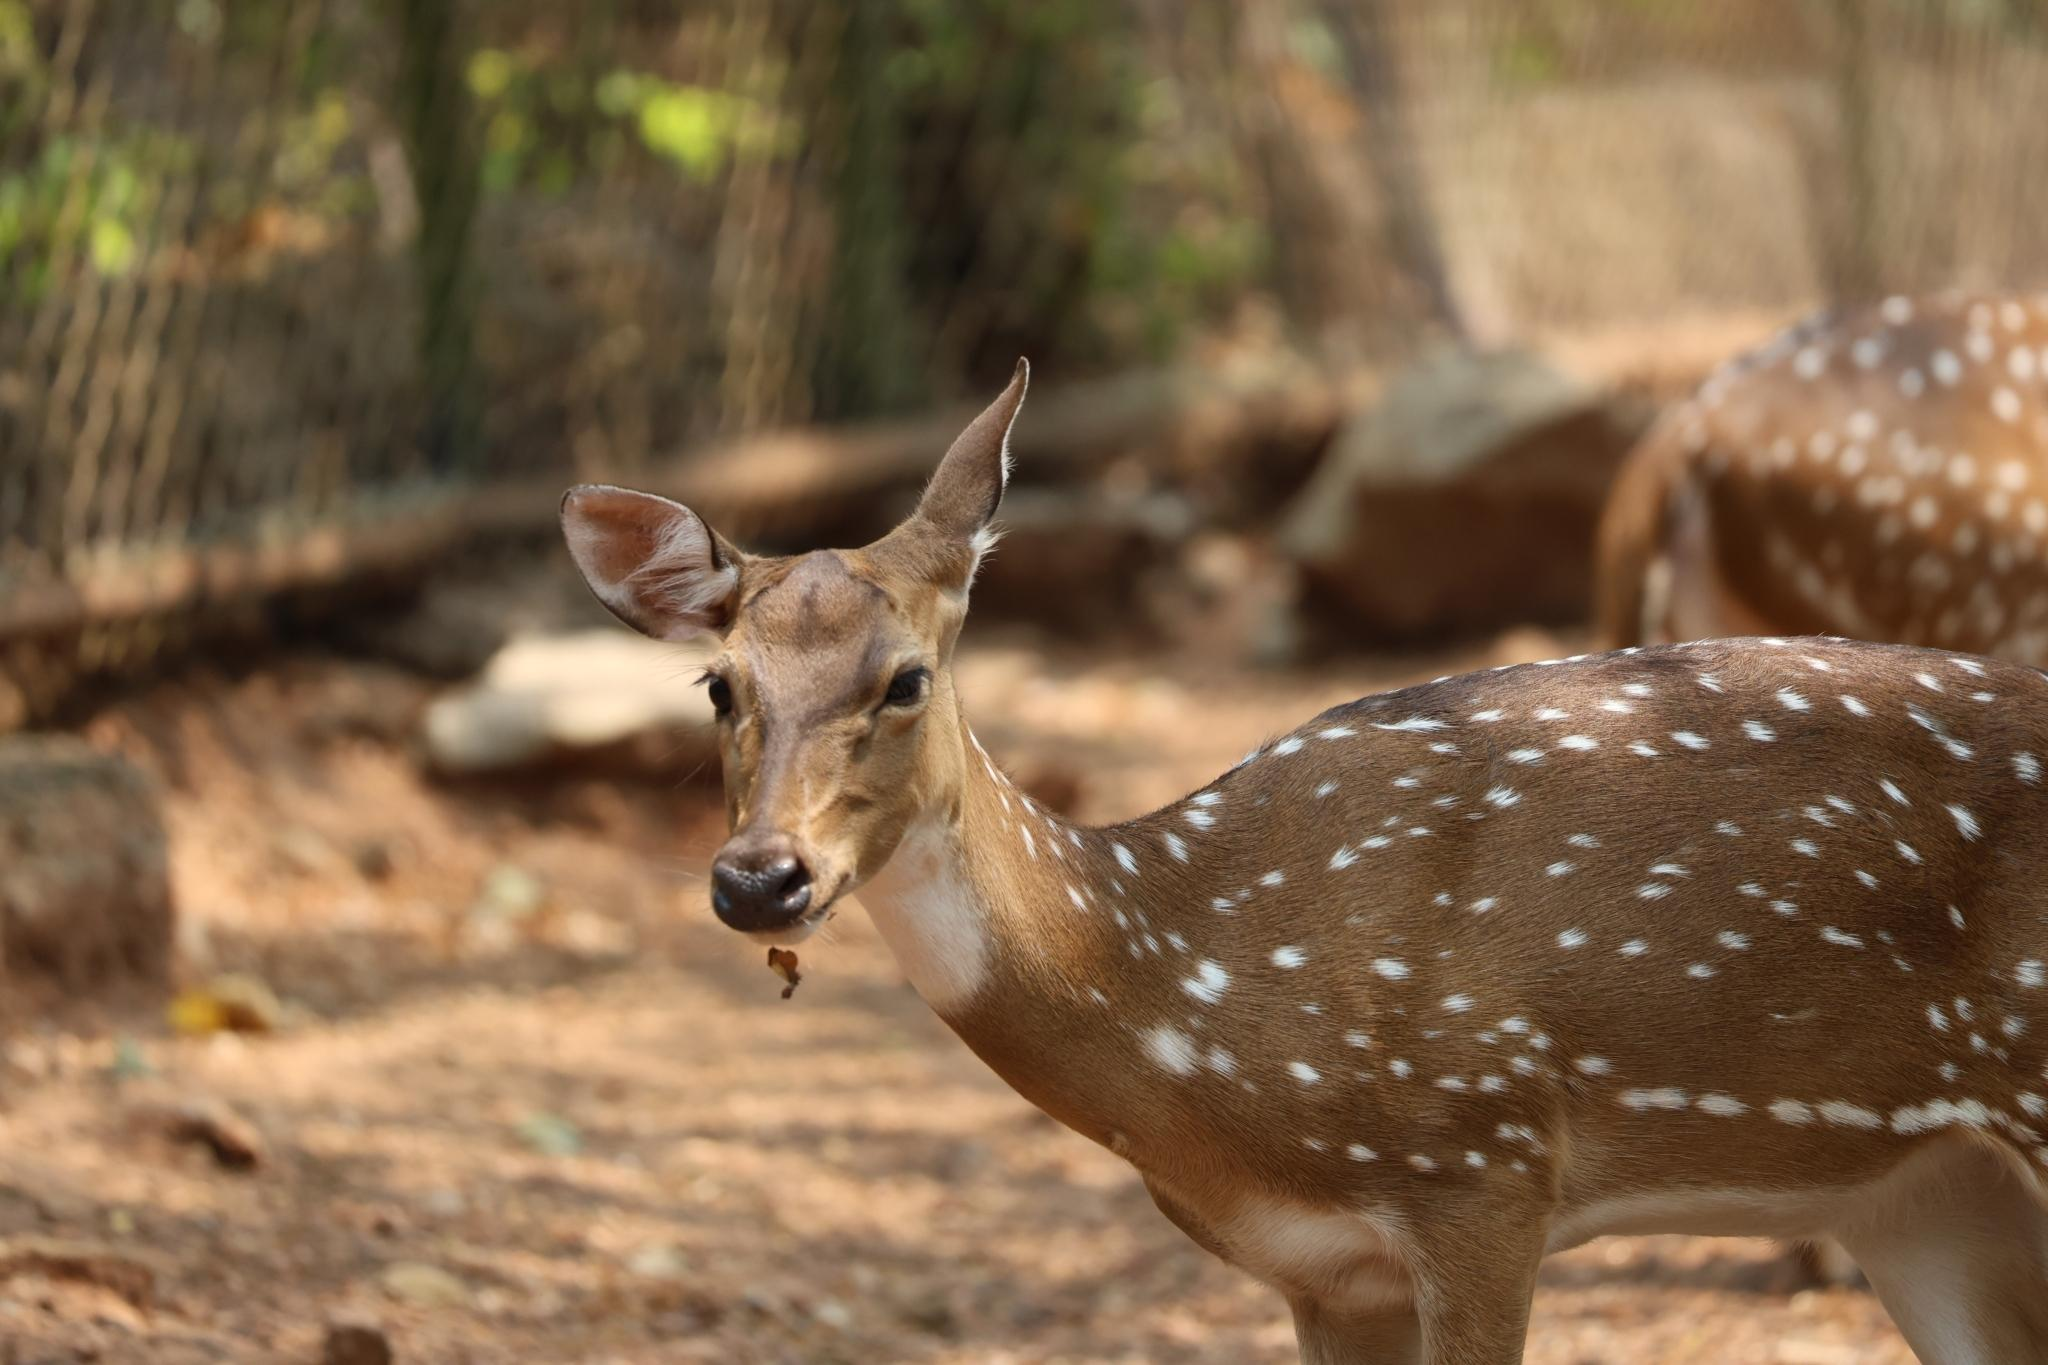Deer: (562, 363, 2046, 1363)
